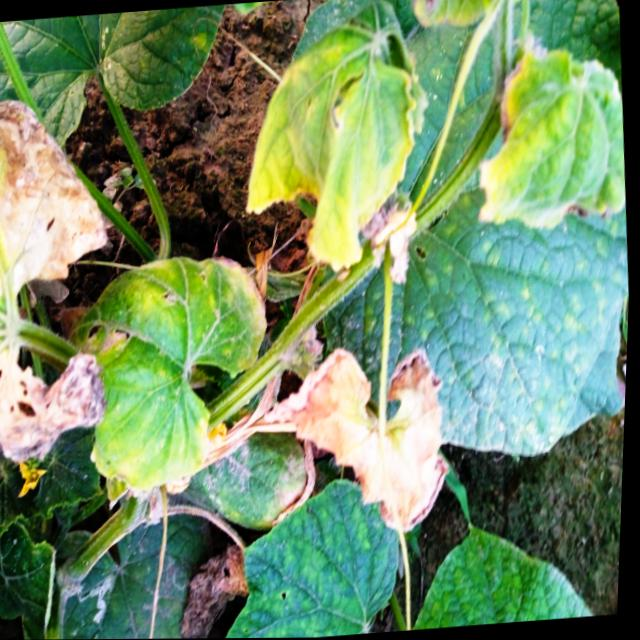Bacterial-Wilt: (245, 0, 419, 270), (265, 345, 455, 535)
